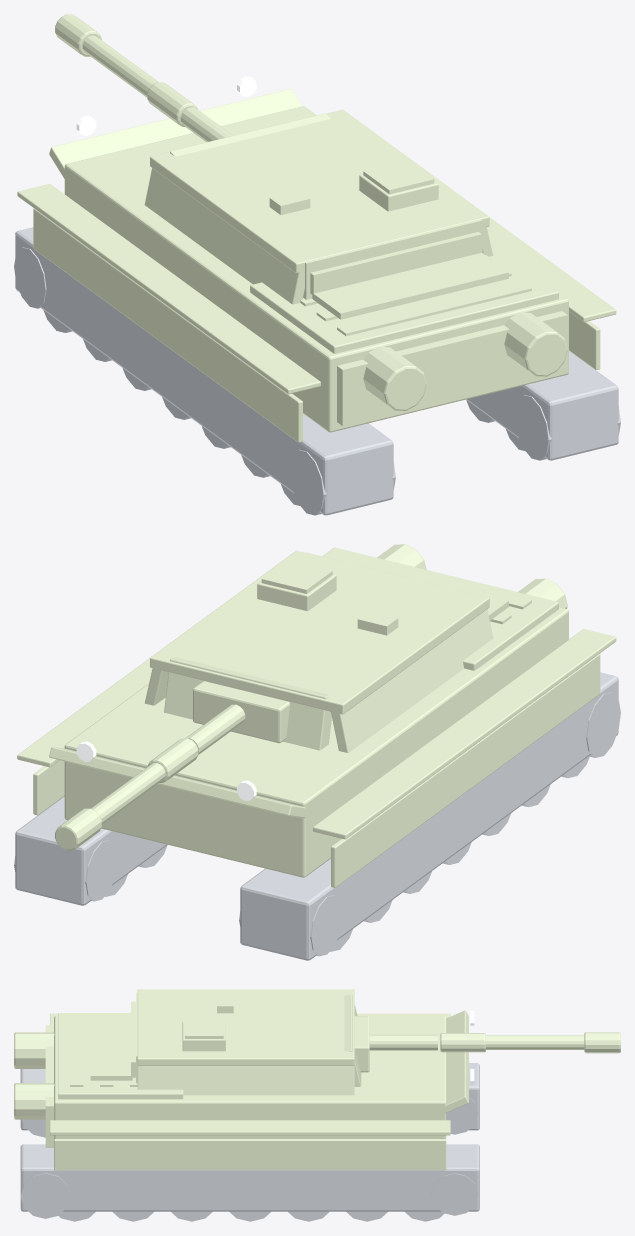
Rendered from tank.glb.
3 renders of one model, top to bottom at view 1: azimuth 30°, elevation 25°; view 2: azimuth 150°, elevation 25°; view 3: azimuth 270°, elevation 25°, orthographic. The views are drawn at different scales.
Parts seen in each view (by area): view 1: Turret, Hull, Track-1, Skirt-1, Fender-1, RearPlate, EngineDeck, Track1, BustleRack, Glacis, CannonTube, BustleBase (+8 smaller); view 2: Turret, Hull, Track-1, Skirt-1, Fender-1, Track1, CannonTube, EngineDeck, Fender1, Glacis, Sprocket-1, Idler-1 (+6 smaller); view 3: Turret, Track1, Hull, Skirt1, Fender1, CannonTube, EngineDeck, BustleRack, Glacis, Sprocket1, Idler1, FuelDrumL (+8 smaller).
Boxes of the visible parts, x1,y1,x2,y2 form: Turret: (144,109,493,304); Hull: (64,106,568,432); Track-1: (15,227,393,515); Skirt-1: (33,208,302,442); Fender-1: (17,184,320,394); RearPlate: (337,311,567,425); EngineDeck: (250,242,558,353); Track1: (466,351,618,460); BustleRack: (312,252,508,319); Glacis: (49,89,301,210); CannonTube: (55,14,232,142); BustleBase: (310,232,481,295); Turret: (145,550,493,752); Hull: (64,607,568,877); Track-1: (240,672,618,960); Skirt-1: (331,653,600,887); Fender-1: (313,629,616,839); Track1: (15,796,167,905); CannonTube: (55,704,245,850); EngineDeck: (322,547,558,670); Fender1: (17,658,152,767); Glacis: (49,747,305,818); Sprocket-1: (586,692,620,757); Idler-1: (239,895,342,956); Turret: (136,989,369,1095); Track1: (20,1144,479,1211); Hull: (54,1016,446,1139); Skirt1: (54,1139,446,1170); Fender1: (50,1120,450,1135); CannonTube: (369,1032,620,1053); EngineDeck: (58,1013,183,1099); BustleRack: (90,1015,132,1080); Glacis: (414,1010,468,1120); Sprocket1: (20,1173,70,1218); Idler1: (431,1173,478,1215); FuelDrumL: (14,1032,54,1068).
Size of the model in its own units: 3.36 by 2.13 by 7.27.
